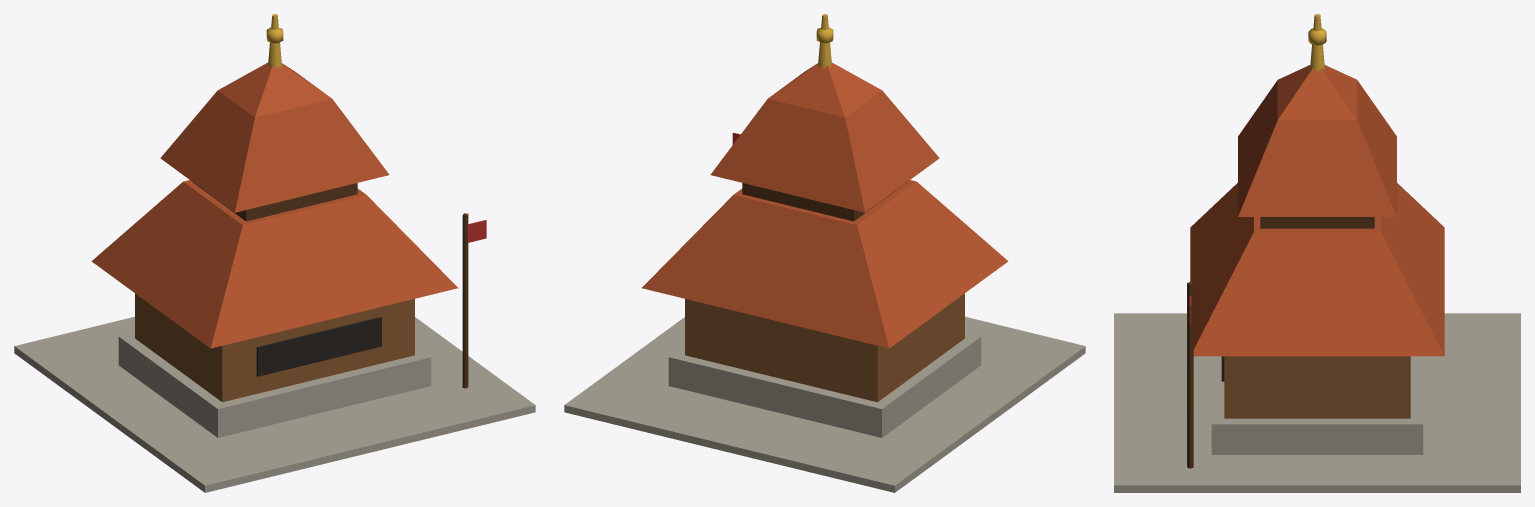
The model's file is building_syahbandar.glb.
The picture shows the model from 3 angles, left to right: view 1: azimuth 30°, elevation 25°; view 2: azimuth 150°, elevation 25°; view 3: azimuth 270°, elevation 25°; orthographic projection. The views are drawn at different scales.
Parts seen in each view (by area): view 1: building_syahbandar; view 2: building_syahbandar; view 3: building_syahbandar.
Boxes of the visible parts, left/top/right/bottom form: building_syahbandar: left=14, top=14, right=535, bottom=492; building_syahbandar: left=564, top=14, right=1085, bottom=492; building_syahbandar: left=1114, top=14, right=1520, bottom=492.
Bounding box in the file's own units: 0.96 × 1.02 × 0.96.
